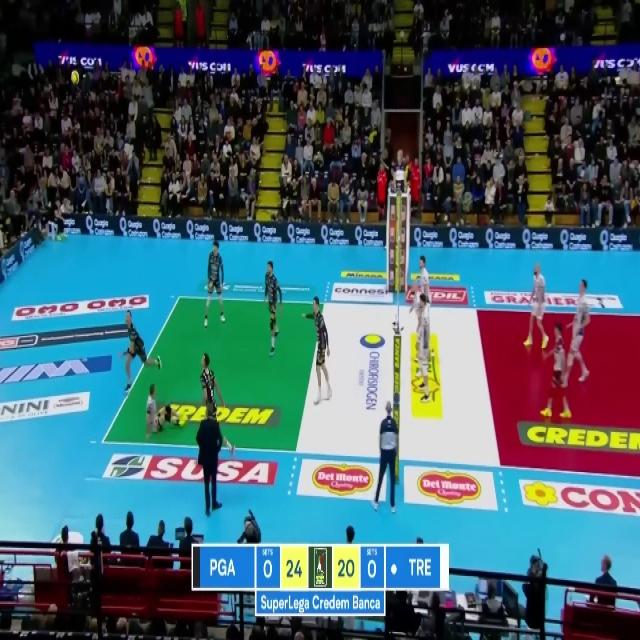volleyball court: (100, 292, 639, 479)
